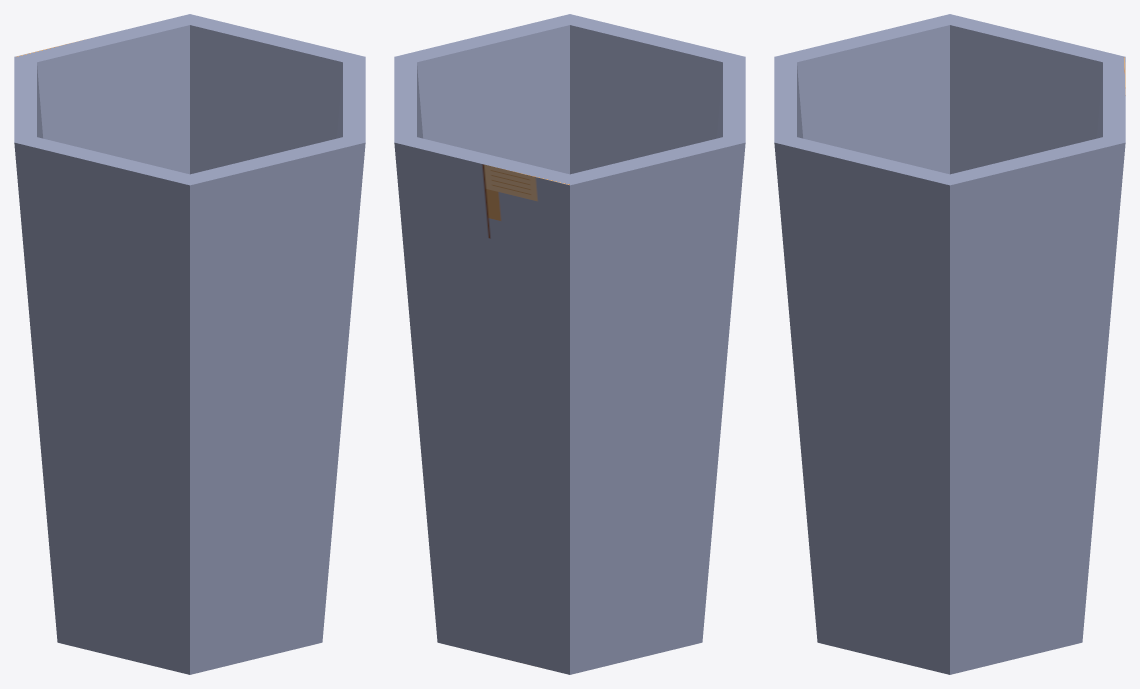
File: trash_can.FBX
The picture shows the model from 3 angles, left to right: view 1: azimuth 30°, elevation 25°; view 2: azimuth 150°, elevation 25°; view 3: azimuth 270°, elevation 25°; orthographic projection.
Parts seen in each view (by area): view 1: trash_can; view 2: trash_can; view 3: trash_can.
Boxes of the visible parts, bbox=[...] form: trash_can: bbox=[14, 14, 365, 674]; trash_can: bbox=[394, 14, 745, 674]; trash_can: bbox=[774, 14, 1125, 674].
Size of the model in its own units: 72 by 100 by 62.35.
